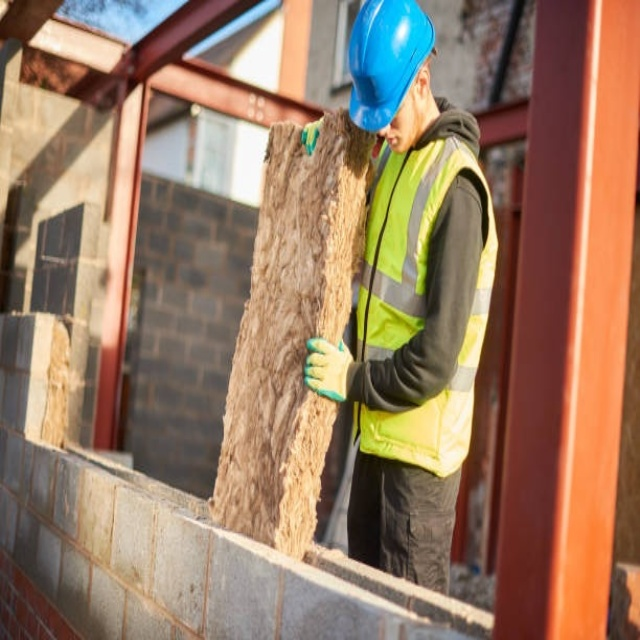Guantes: (305, 336, 354, 402), (301, 116, 323, 156)
Sin_mascara: (381, 124, 408, 160)
